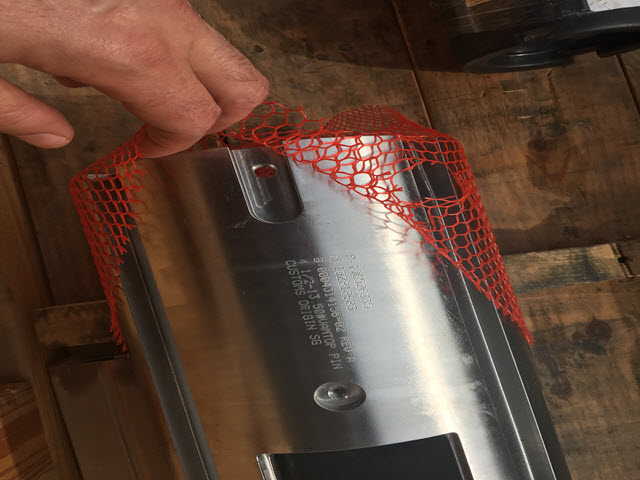character: (329, 358, 343, 366), (327, 352, 341, 360), (340, 340, 354, 348), (307, 333, 321, 341), (304, 323, 318, 331), (294, 289, 308, 297), (283, 258, 298, 265), (330, 363, 344, 370), (297, 299, 311, 306), (344, 356, 356, 364), (298, 304, 311, 311), (341, 347, 355, 353), (338, 336, 350, 343), (310, 339, 322, 346), (287, 265, 301, 271), (292, 285, 306, 291), (324, 343, 337, 349), (333, 321, 346, 327), (289, 269, 300, 276), (334, 327, 349, 332), (302, 315, 314, 321), (290, 274, 302, 280), (299, 310, 312, 315), (303, 321, 317, 325)
